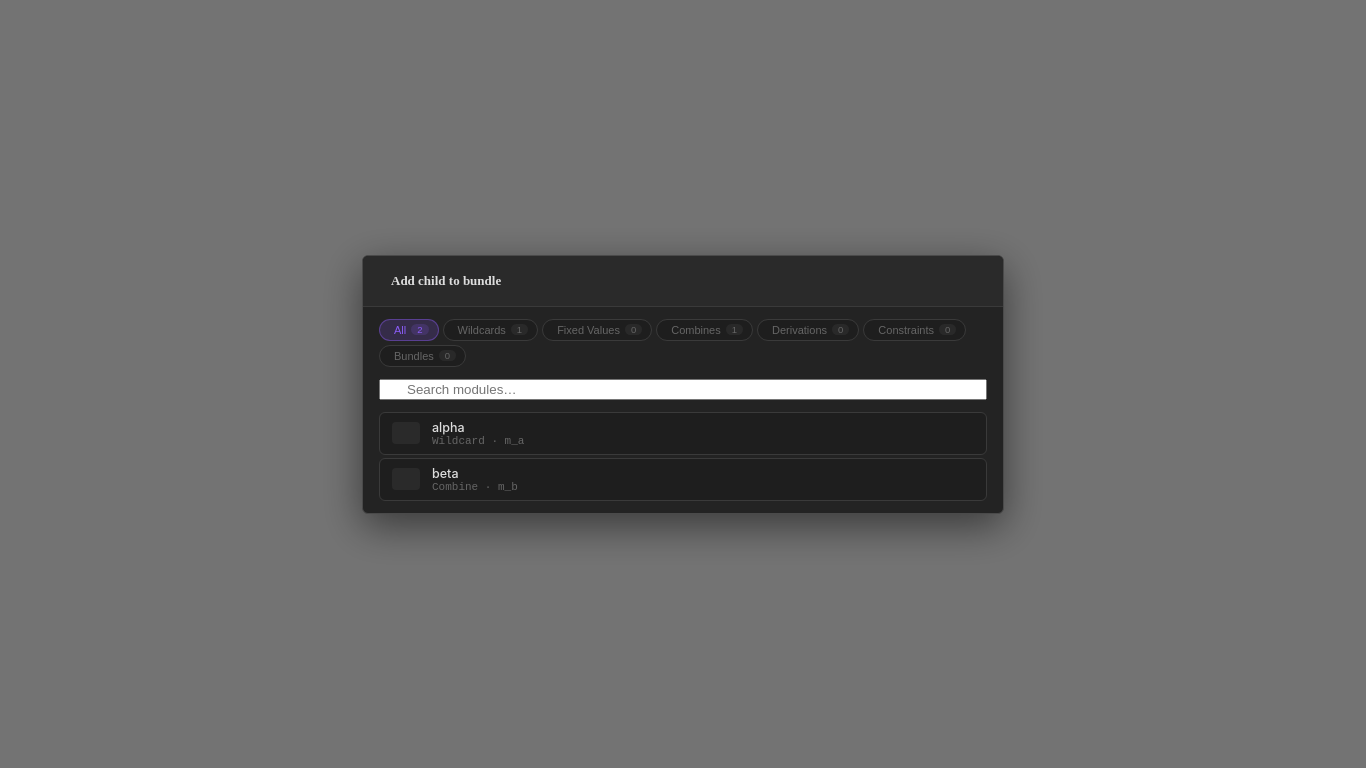
Test: BundleAddChildModal.vue › filters by search term
This screenshot has width=1366, height=768.
In the field with test id "bundle-add-search": coordinates (683, 389) [379,378,987,400], type "alpha"
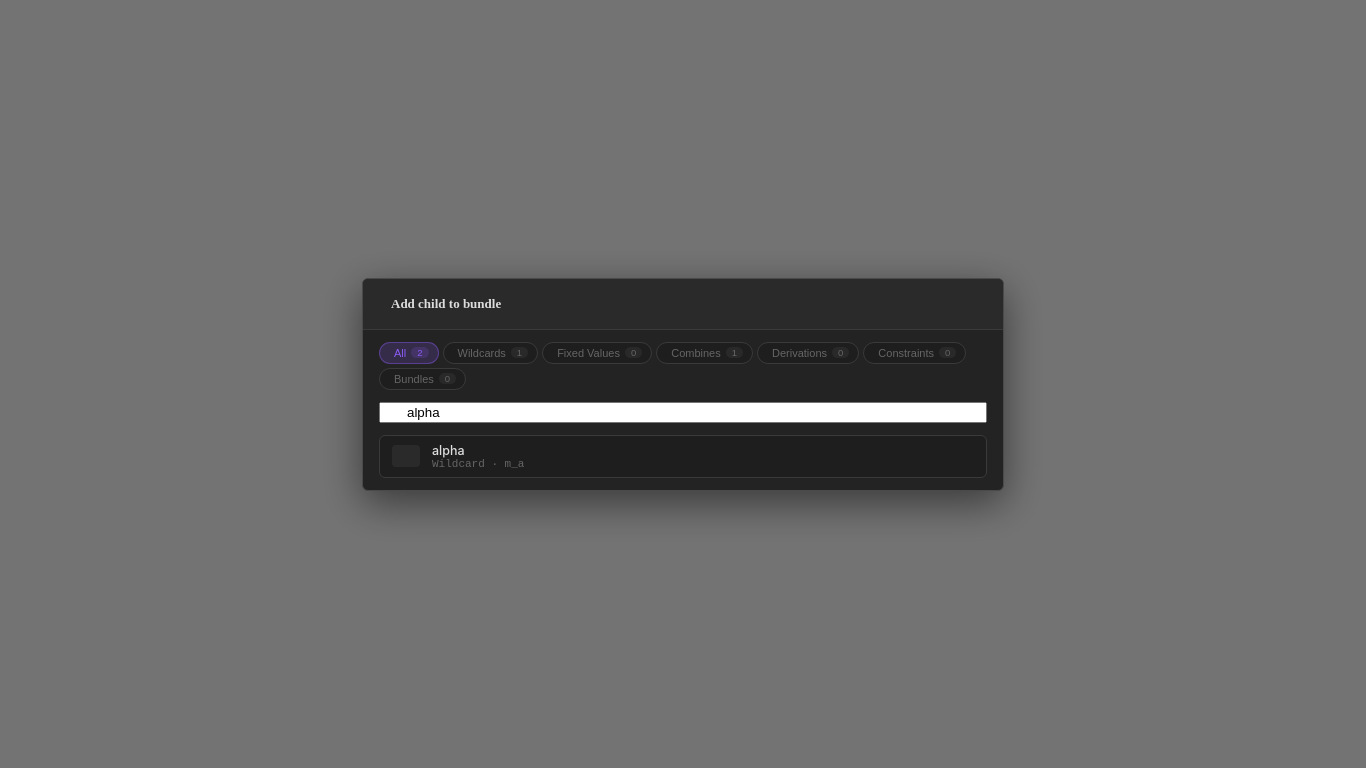
Expected: the text "alpha" is shown, [432,442,465,458]
Expected: the text "beta" is gone
